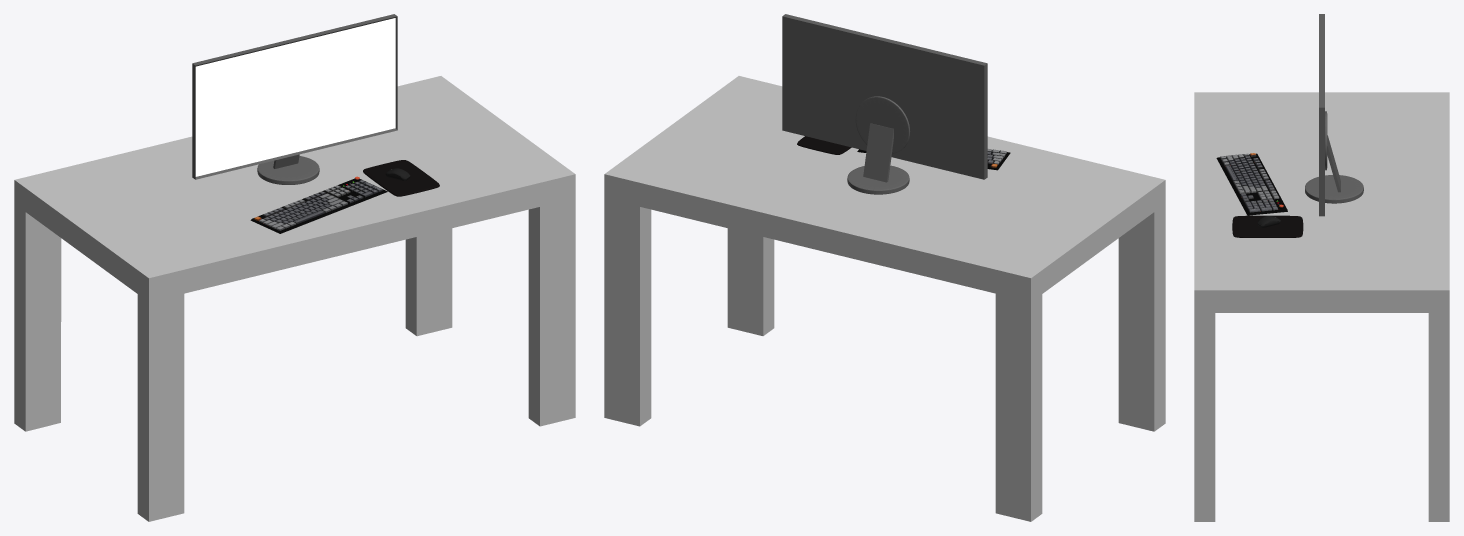
The model's file is cvmodels.gltf.
3 renders of one model, left to right at view 1: azimuth 30°, elevation 25°; view 2: azimuth 150°, elevation 25°; view 3: azimuth 270°, elevation 25°, orthographic. The views are drawn at different scales.
Parts seen in each view (by area): view 1: Cube, Cube.001, Cube.002, Cube.004, Circle; view 2: Cube, Cube.001, Circle; view 3: Cube, Cube.002, Circle, Cube.004, Cube.001.
Part boxes in pixels (x1,y1,x2,y2): Cube: [14, 76, 575, 521]; Cube.001: [192, 14, 397, 179]; Cube.002: [250, 176, 387, 233]; Cube.004: [363, 160, 439, 196]; Circle: [257, 154, 319, 184]; Cube: [604, 76, 1165, 521]; Cube.001: [782, 14, 987, 179]; Circle: [847, 96, 910, 194]; Cube: [1194, 92, 1449, 521]; Cube.002: [1216, 153, 1287, 215]; Circle: [1305, 111, 1363, 203]; Cube.004: [1232, 215, 1303, 237]; Cube.001: [1319, 14, 1324, 216].
Size of the model in its own units: 6.87 by 5.86 by 3.75.
